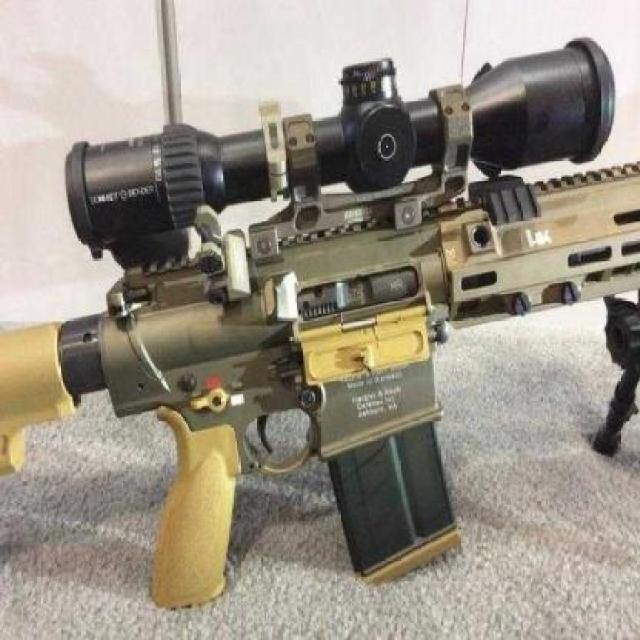weapon: (0, 33, 639, 611)
